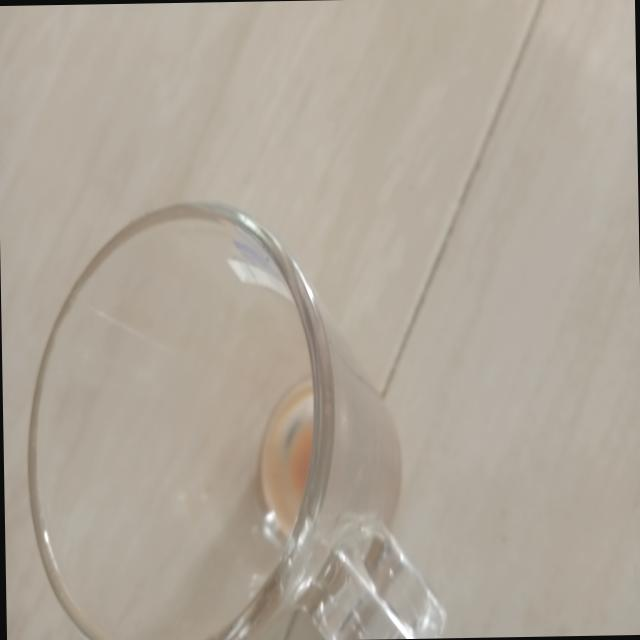glass-VX4N: (20, 194, 446, 640)
